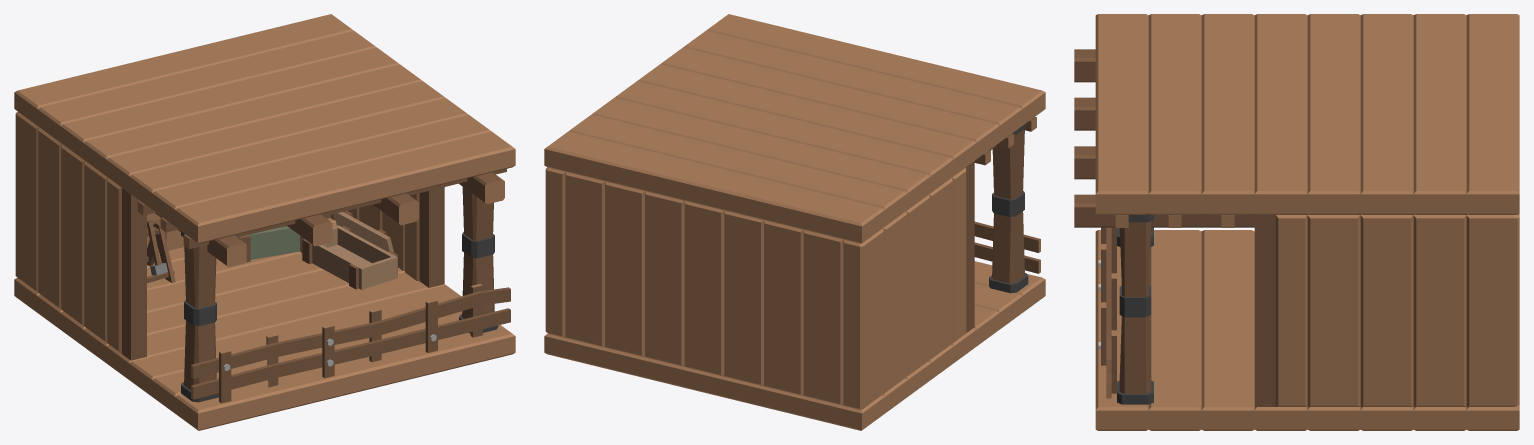
Rendered from WeaponStorage_Lvl_01_Straight.fbx.
The picture shows the model from 3 angles, left to right: view 1: azimuth 30°, elevation 25°; view 2: azimuth 150°, elevation 25°; view 3: azimuth 270°, elevation 25°; orthographic projection. The views are drawn at different scales.
Parts seen in each view (by area): view 1: WeaponStorage_Lvl_01_Straight; view 2: WeaponStorage_Lvl_01_Straight; view 3: WeaponStorage_Lvl_01_Straight.
Part boxes in pixels (<box>): WeaponStorage_Lvl_01_Straight: <box>14,14,515,430</box>; WeaponStorage_Lvl_01_Straight: <box>544,14,1045,430</box>; WeaponStorage_Lvl_01_Straight: <box>1074,14,1519,430</box>.
Size of the model in its own units: 8 by 5 by 8.4.
